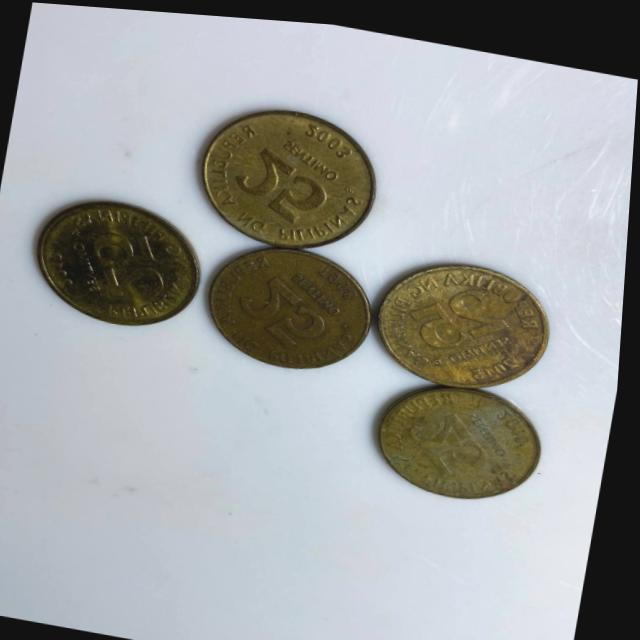25Cent_Old_Front: (226, 145, 332, 228), (413, 273, 519, 352), (240, 272, 336, 348), (410, 405, 498, 473), (95, 225, 172, 297)
